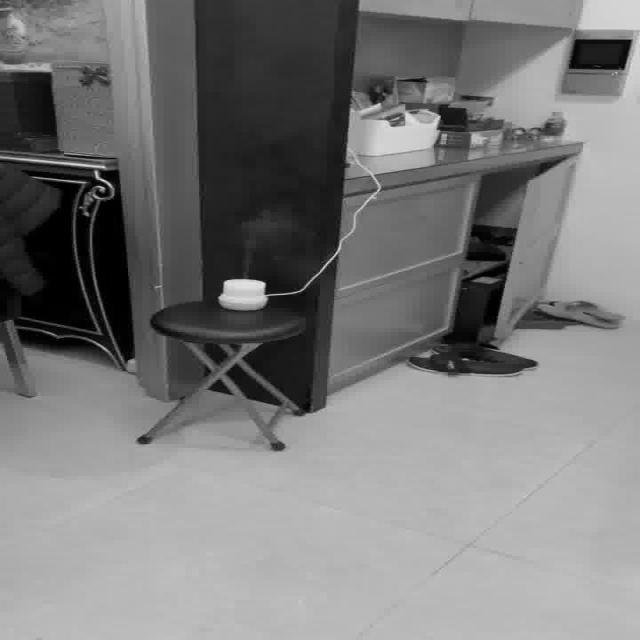fire: (228, 210, 306, 270)
